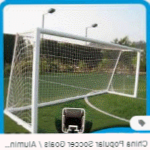goals: (6, 26, 140, 134)
